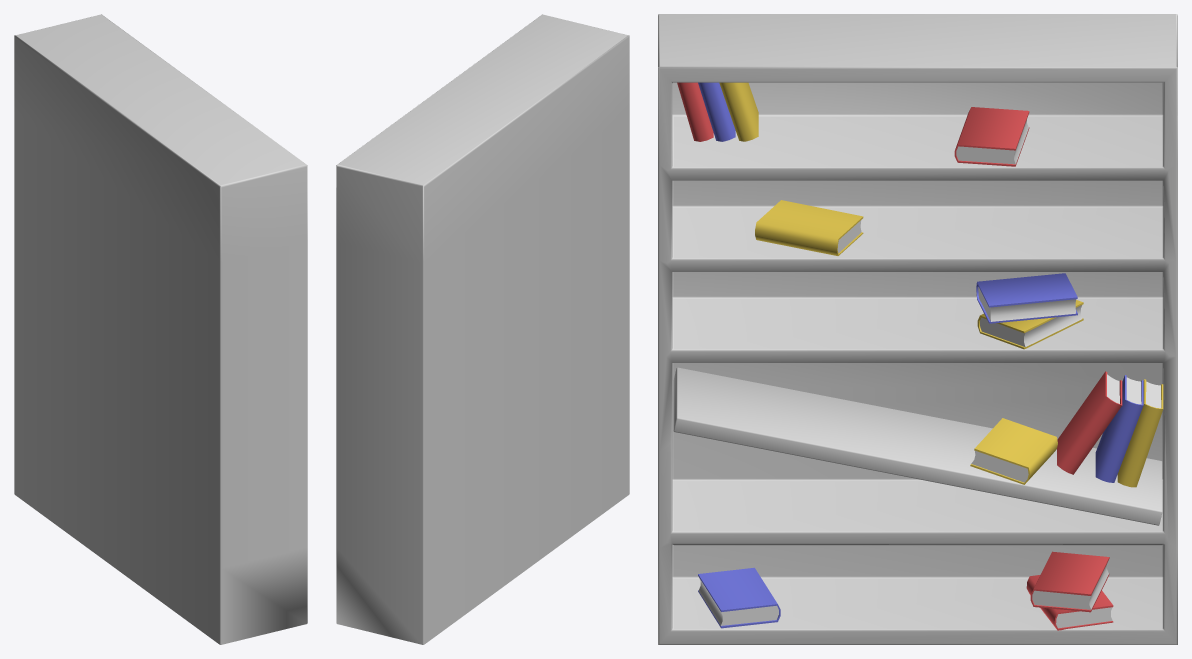
Rendered from bookshelve_model.fbx.
3 renders of one model, left to right at view 1: azimuth 30°, elevation 25°; view 2: azimuth 150°, elevation 25°; view 3: azimuth 270°, elevation 25°, orthographic. The views are drawn at different scales.
Visible parts, largest first — view 1: Plane.008; view 2: Plane.008; view 3: Plane.008.
Boxes of the visible parts, box(x1,y1,x2,y2) form: Plane.008: box(14, 14, 307, 644); Plane.008: box(336, 14, 629, 644); Plane.008: box(658, 14, 1177, 644).
Size of the model in its own units: 0.3757 by 1.84 by 1.5.
